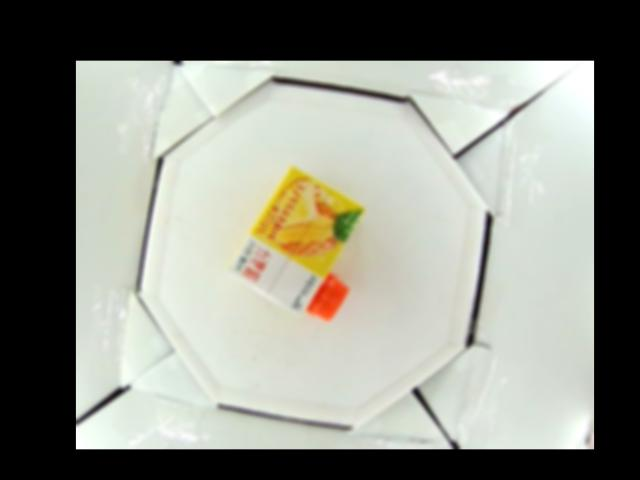Bottle: (227, 164, 366, 320)
